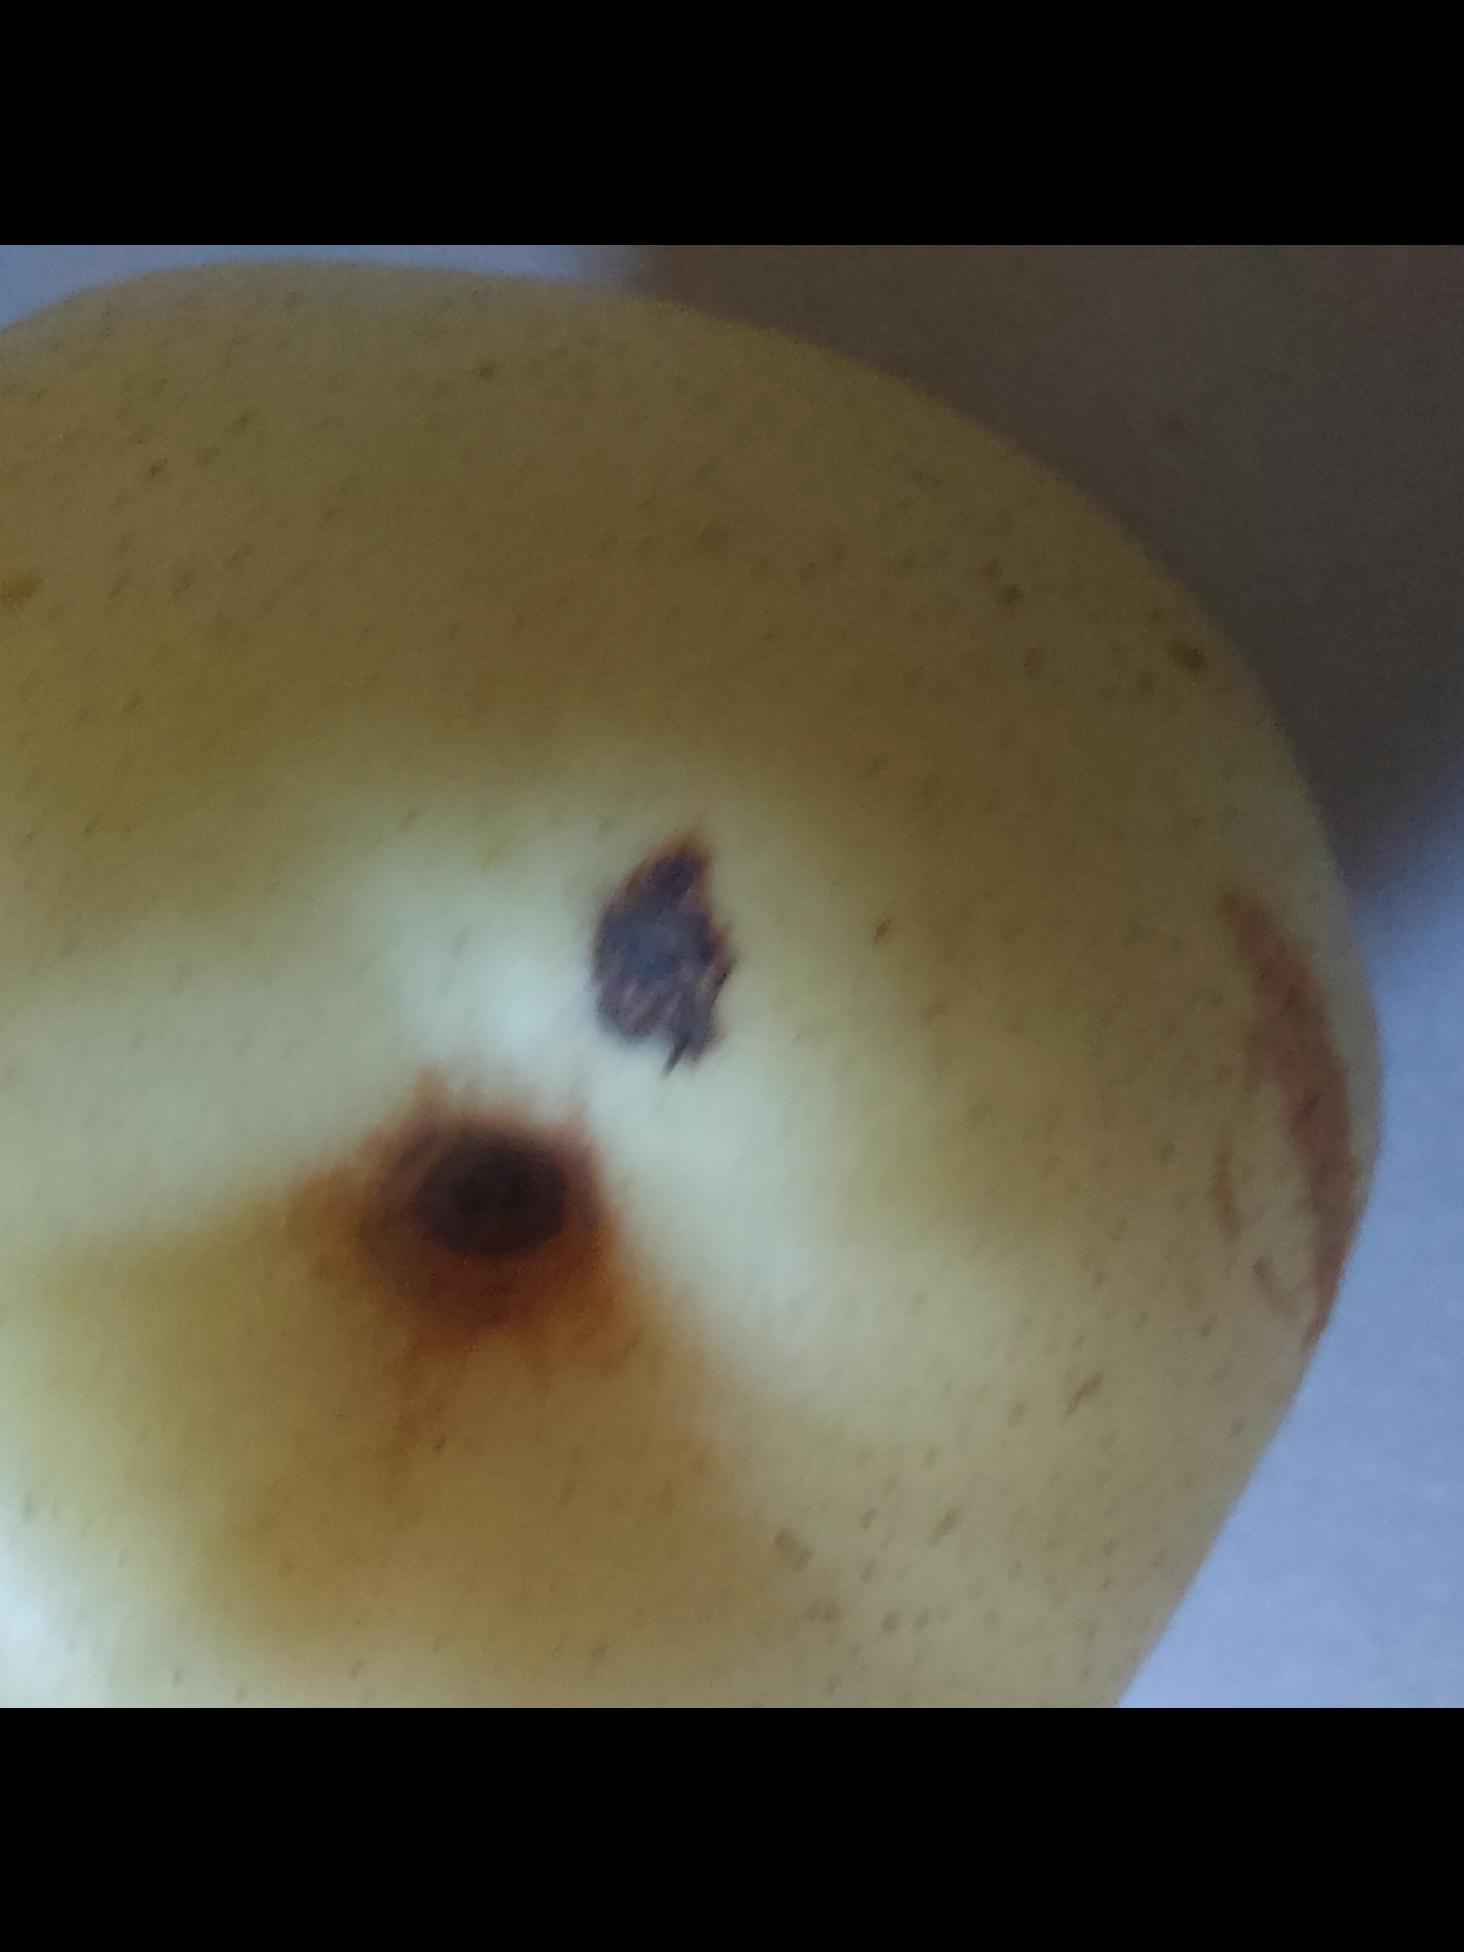Good Pear: (0, 244, 1422, 1708)
